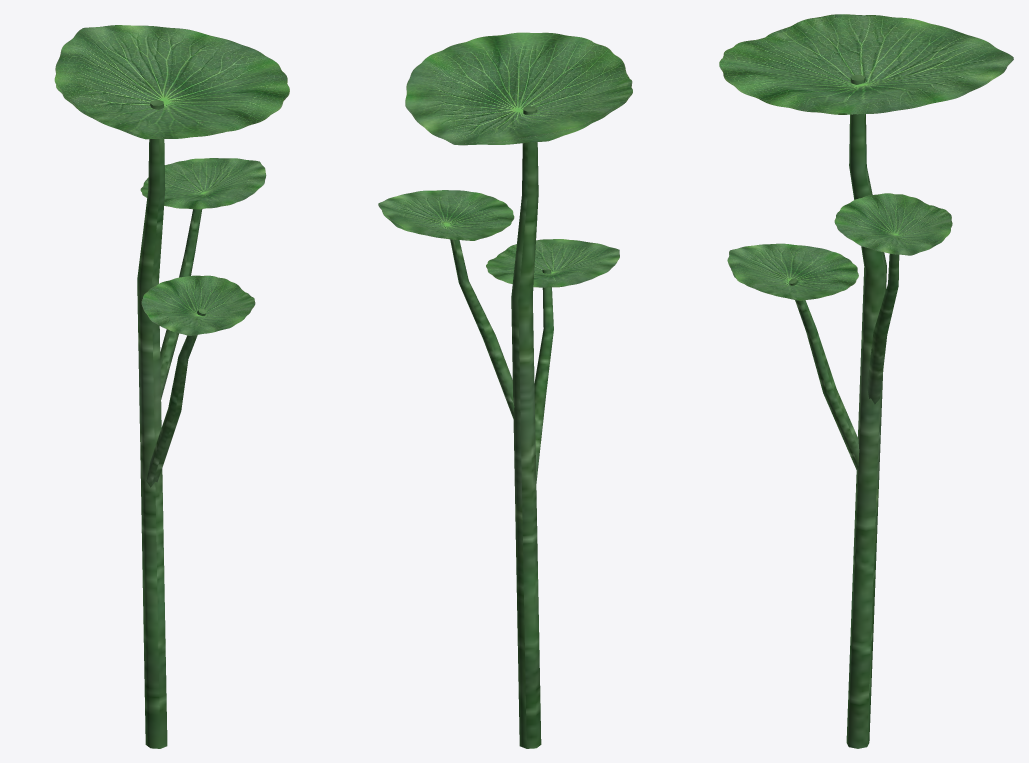
Rendered from WEED LEAF.fbx.
The picture shows the model from 3 angles, left to right: view 1: azimuth 30°, elevation 25°; view 2: azimuth 150°, elevation 25°; view 3: azimuth 270°, elevation 25°; orthographic projection. The views are drawn at different scales.
Parts seen in each view (by area): view 1: WEED_LEAF; view 2: WEED_LEAF; view 3: WEED_LEAF.
Part boxes in pixels (<box>): WEED_LEAF: <box>54,25,289,748</box>; WEED_LEAF: <box>378,32,632,748</box>; WEED_LEAF: <box>719,14,1013,748</box>.
Size of the model in its own units: 28.84 by 85.33 by 34.35.
1 material, 1 textured.
